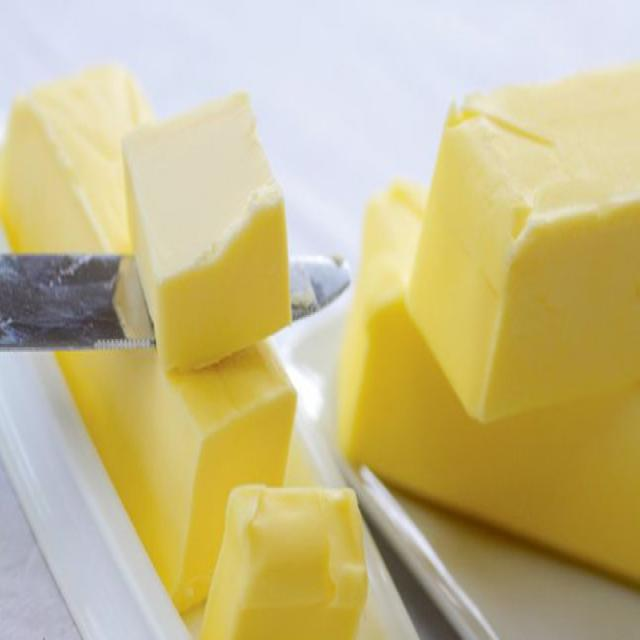Butter: (4, 67, 291, 613), (337, 188, 640, 590), (408, 58, 640, 424), (119, 93, 294, 363), (201, 486, 363, 640)
